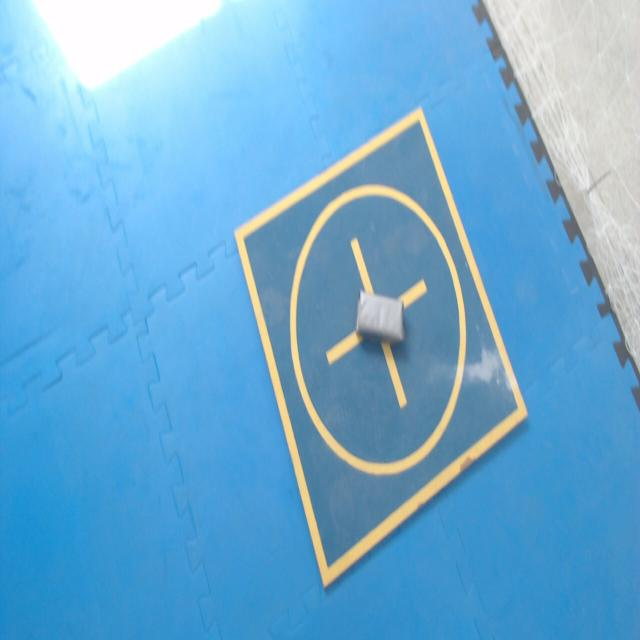lipo: (356, 291, 404, 343)
